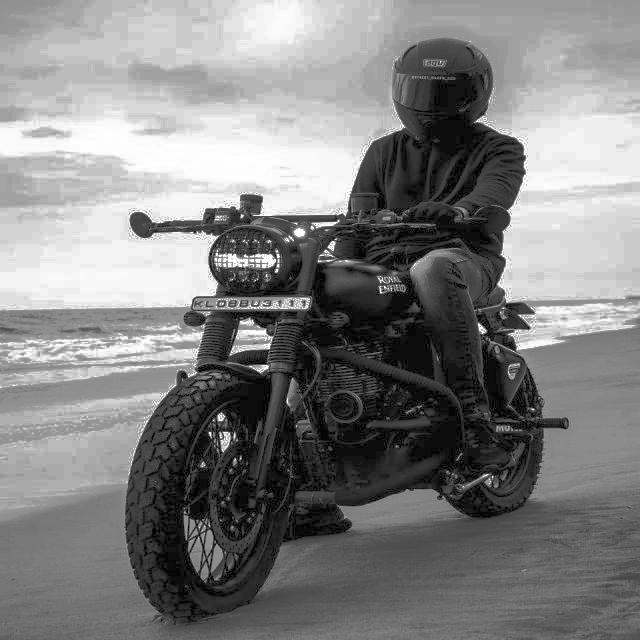Bike: (117, 207, 569, 640)
